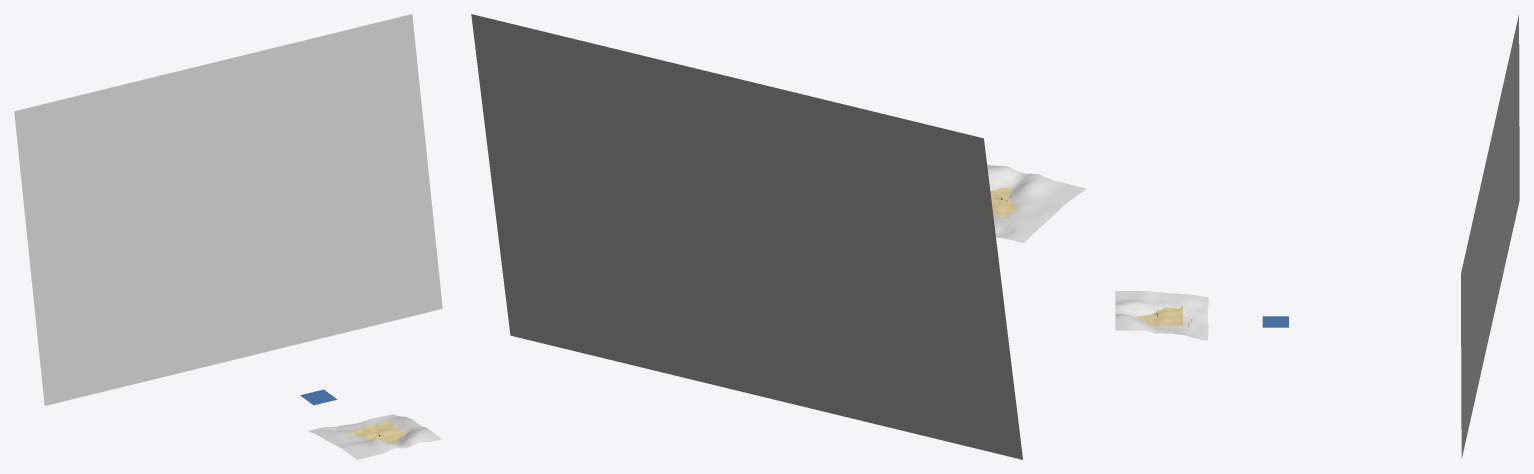
Rendered from beach-scene.glb.
3 renders of one model, left to right at view 1: azimuth 30°, elevation 25°; view 2: azimuth 150°, elevation 25°; view 3: azimuth 270°, elevation 25°, orthographic. The views are drawn at different scales.
Parts seen in each view (by area): view 1: Sky, Beach, Landscape; view 2: Sky, Beach; view 3: Sky, Beach, Landscape.
Boxes of the visible parts, x1,y1,x2,y2 form: Sky: (14, 14, 442, 405); Beach: (308, 414, 441, 459); Landscape: (345, 421, 405, 443); Sky: (471, 14, 1022, 459); Beach: (987, 164, 1086, 242); Sky: (1461, 15, 1519, 458); Beach: (1115, 291, 1208, 340); Landscape: (1137, 305, 1182, 326).
Bounding box in the file's own units: 33.79 × 22.1 × 31.12.
